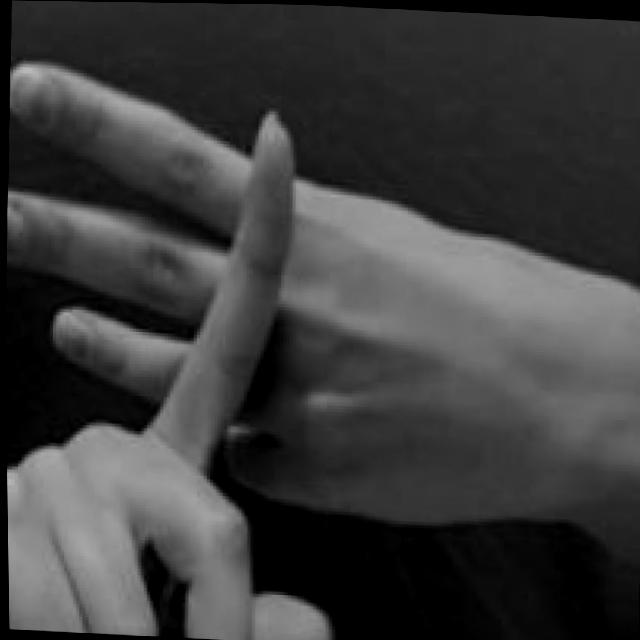E: (1, 53, 565, 640)
